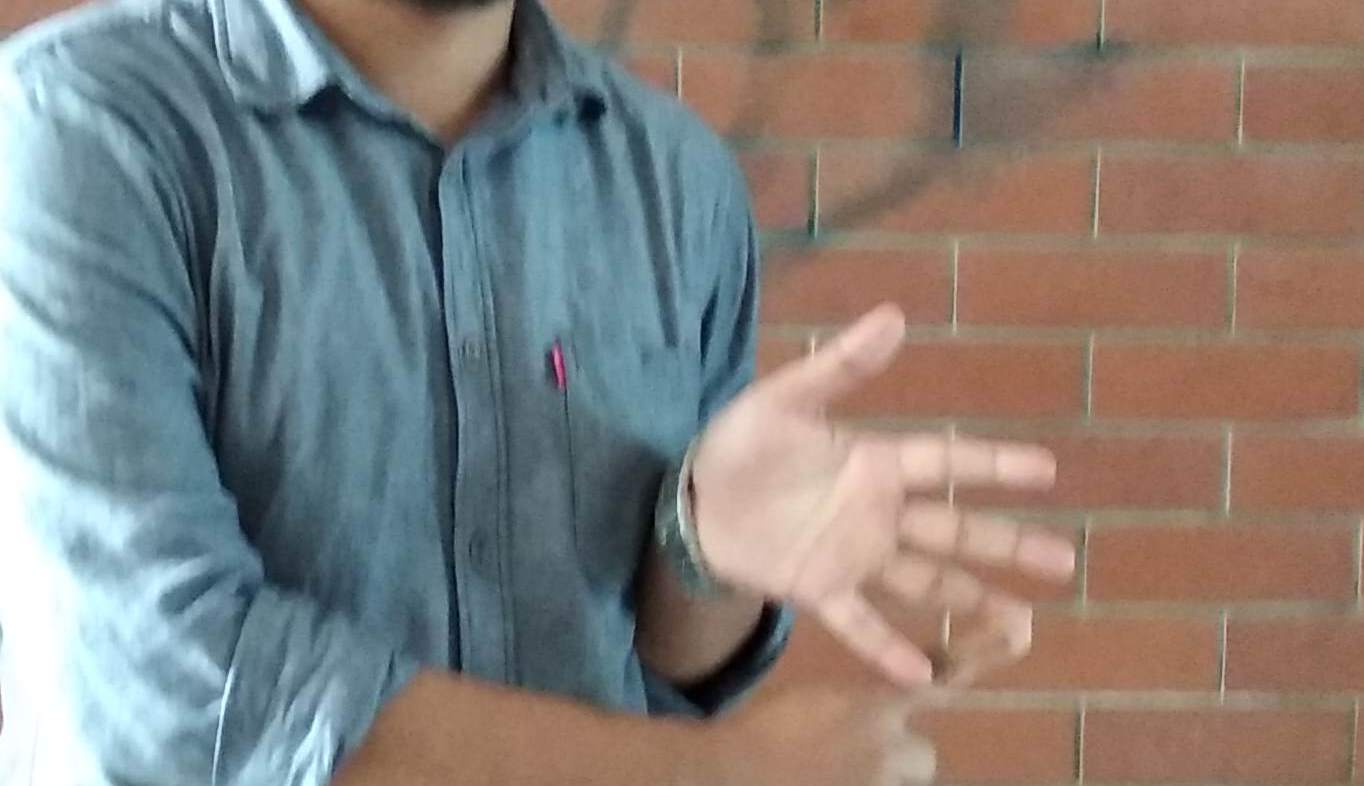e: (700, 334, 1092, 786)
